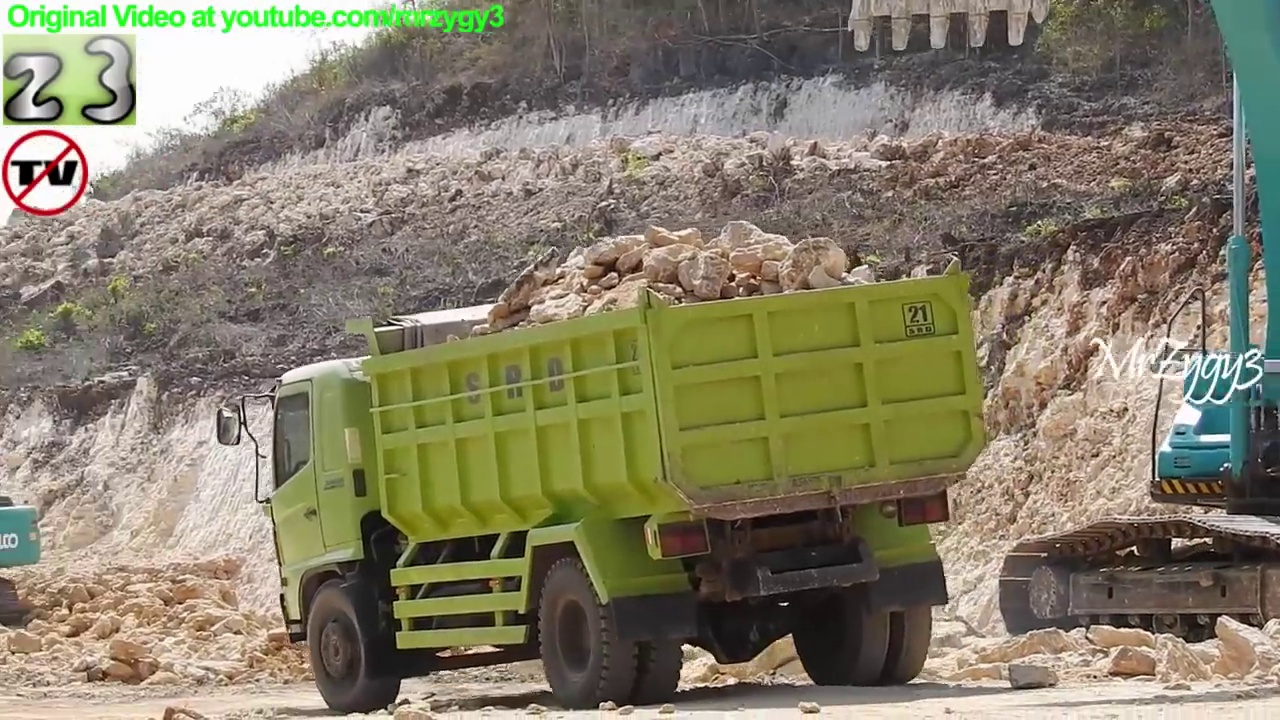excavator: (837, 1, 1280, 659), (1, 493, 50, 636)
truck: (210, 248, 996, 719)
